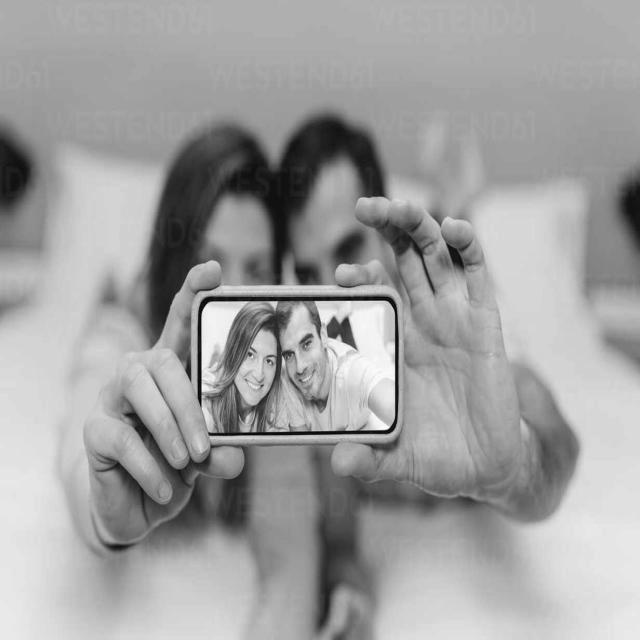fake: (186, 274, 410, 452)
